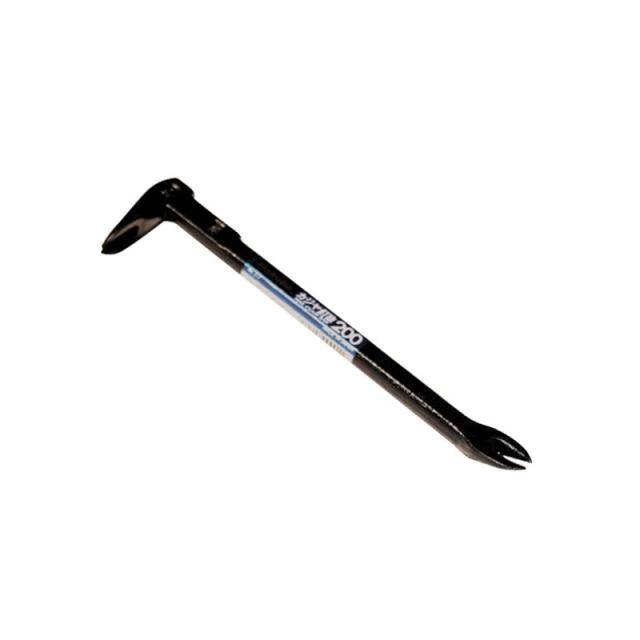Linggis: (102, 179, 532, 475)
